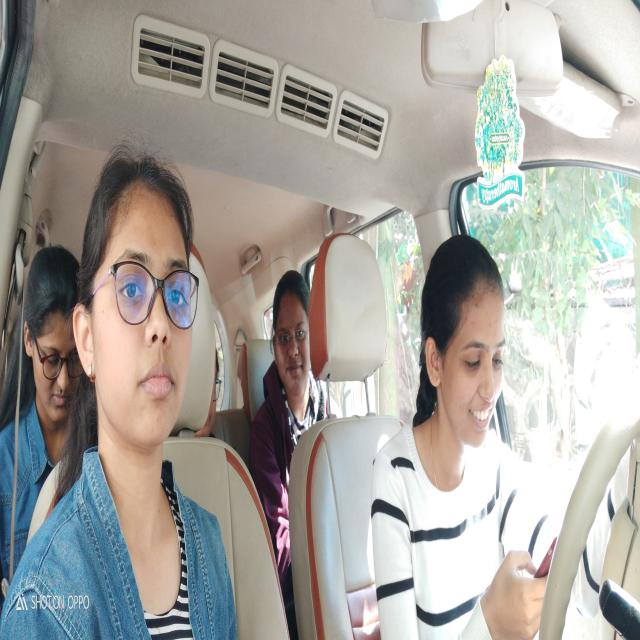mobile: (531, 526, 562, 587)
person: (75, 152, 196, 464), (419, 232, 506, 459), (21, 247, 90, 440), (271, 265, 314, 409), (204, 337, 225, 434)
